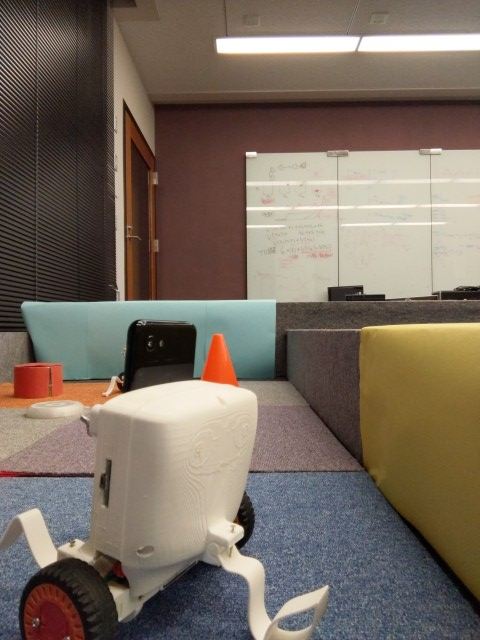bl: (1, 318, 335, 640)
o: (22, 395, 88, 422)
